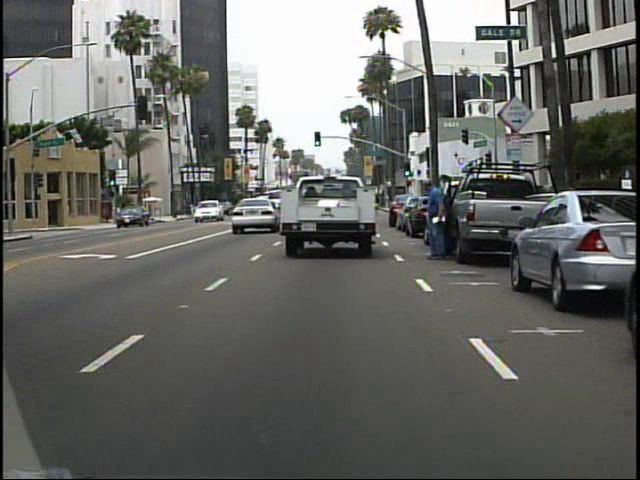person: (416, 176, 455, 266)
